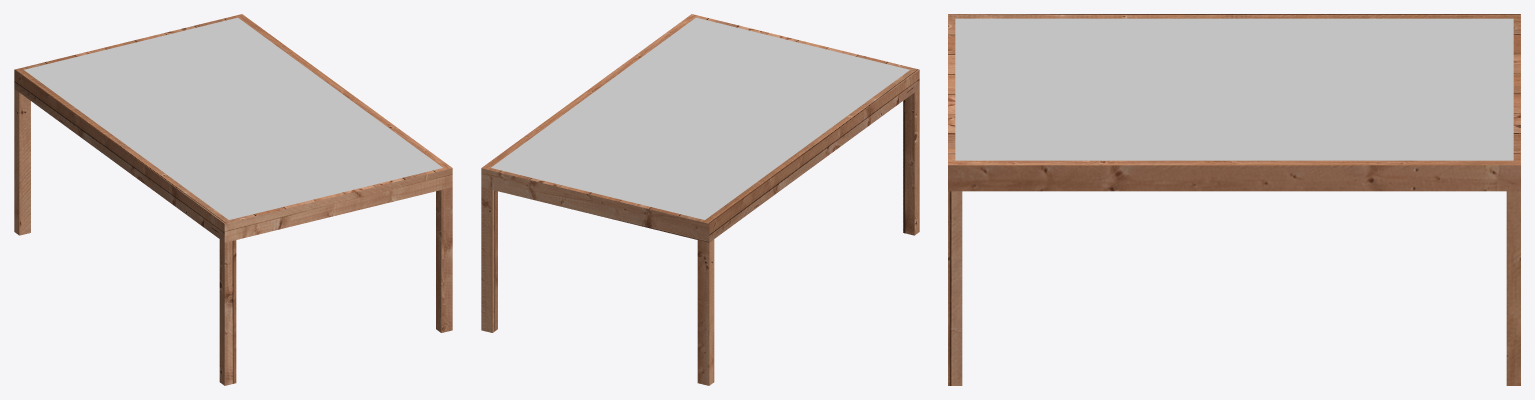
The model's file is GlassTable.fbx.
The picture shows the model from 3 angles, left to right: view 1: azimuth 30°, elevation 25°; view 2: azimuth 150°, elevation 25°; view 3: azimuth 270°, elevation 25°; orthographic projection. The views are drawn at different scales.
Visible parts, largest first — view 1: Cube.001, Cube; view 2: Cube.001, Cube; view 3: Cube.001, Cube.
Boxes of the visible parts, box(x1,y1,x2,y2) form: Cube.001: box(24, 17, 442, 219); Cube: box(14, 14, 452, 385); Cube.001: box(491, 17, 909, 219); Cube: box(481, 14, 919, 385); Cube.001: box(955, 18, 1513, 160); Cube: box(948, 14, 1520, 385).
Size of the model in its own units: 250 by 170 by 400.
2 materials, 1 textured.
